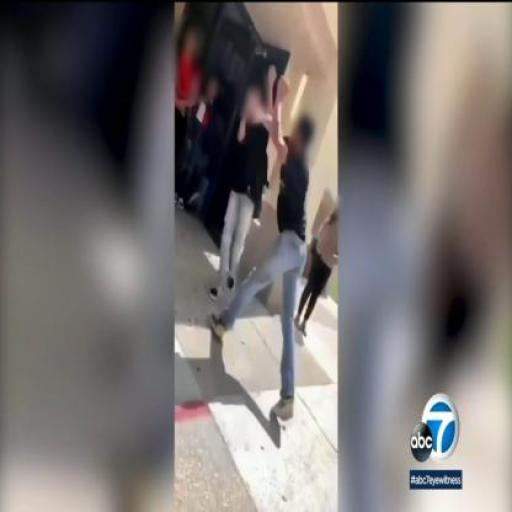Fighting: (208, 51, 308, 431)
